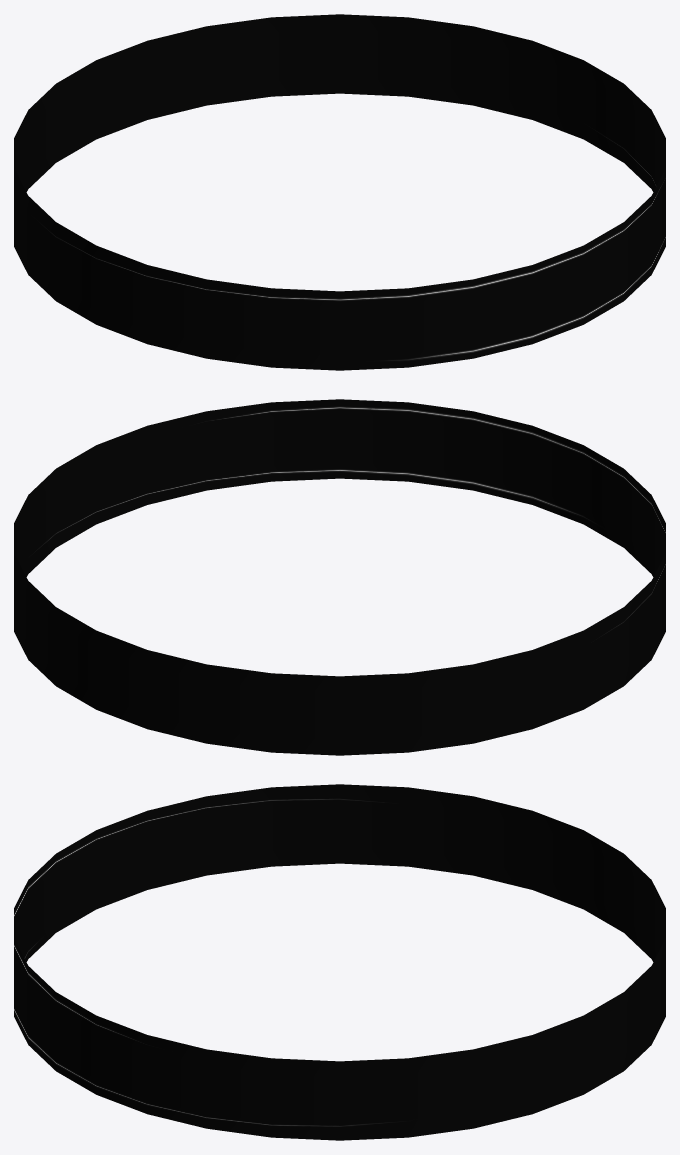
The model's file is 0493_youkexi_01.glb.
3 renders of one model, top to bottom at view 1: azimuth 30°, elevation 25°; view 2: azimuth 150°, elevation 25°; view 3: azimuth 270°, elevation 25°, orthographic.
Size of the model in its own units: 2.2 by 0.2937 by 2.19.
1 material, 1 textured.
